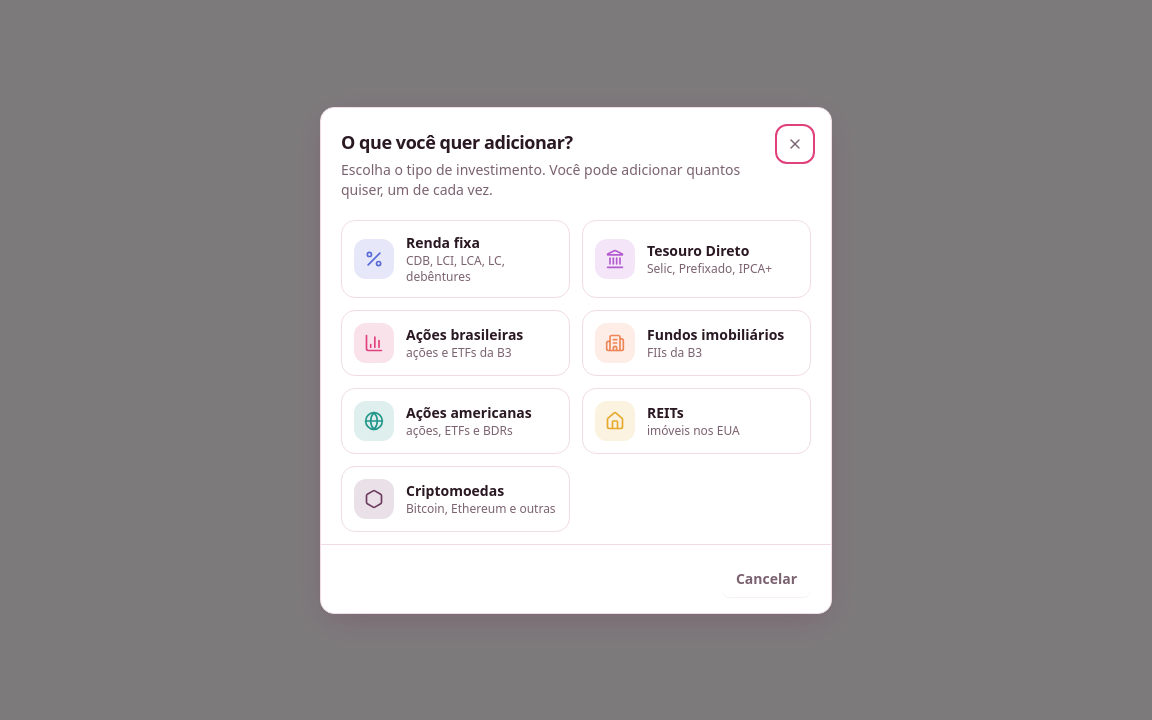
Scenario: AddAssetModal: renda fixa › abre com o formulário, o aviso do Tesouro e a prévia vazia
Click the button "Renda fixa CDB, LCI, LCA, LC, debêntures" at (456, 258), box [341, 220, 570, 298]
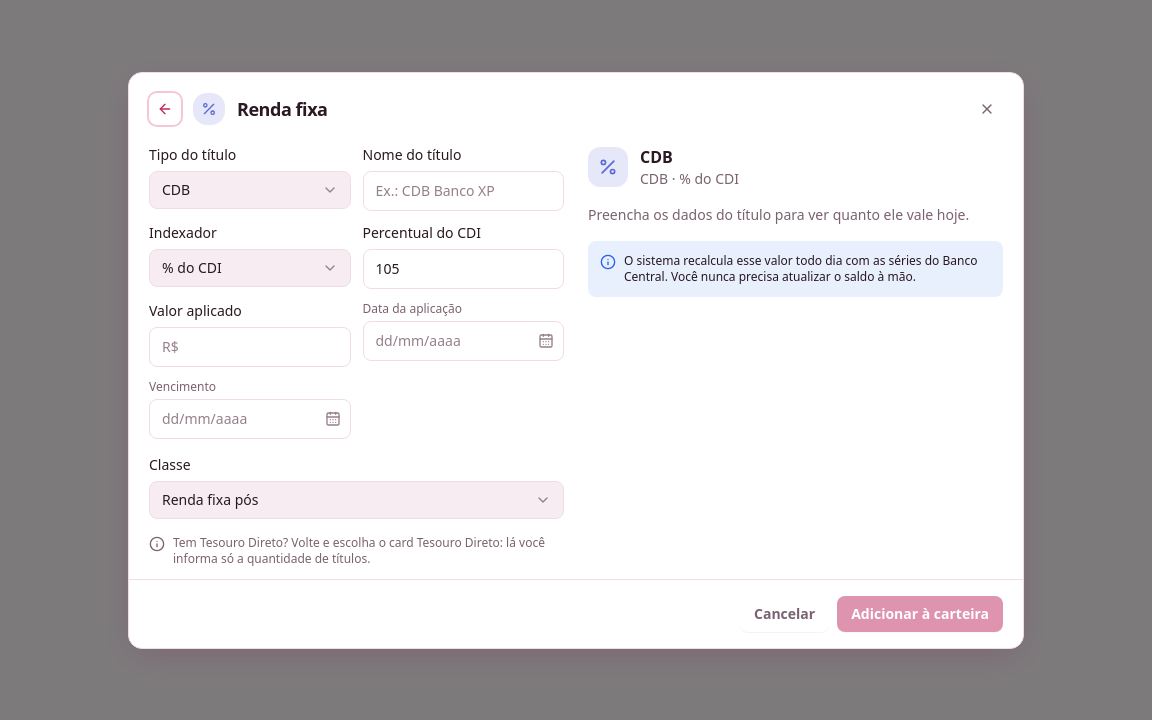
Expected: the field labelled "Percentual do CDI" holds "105", [362, 248, 564, 288]
Expected: the dropdown named "Classe" reads "Renda fixa pós", [149, 480, 564, 518]
Expected: the text "Tem Tesouro Direto?" is shown, [173, 534, 545, 566]
